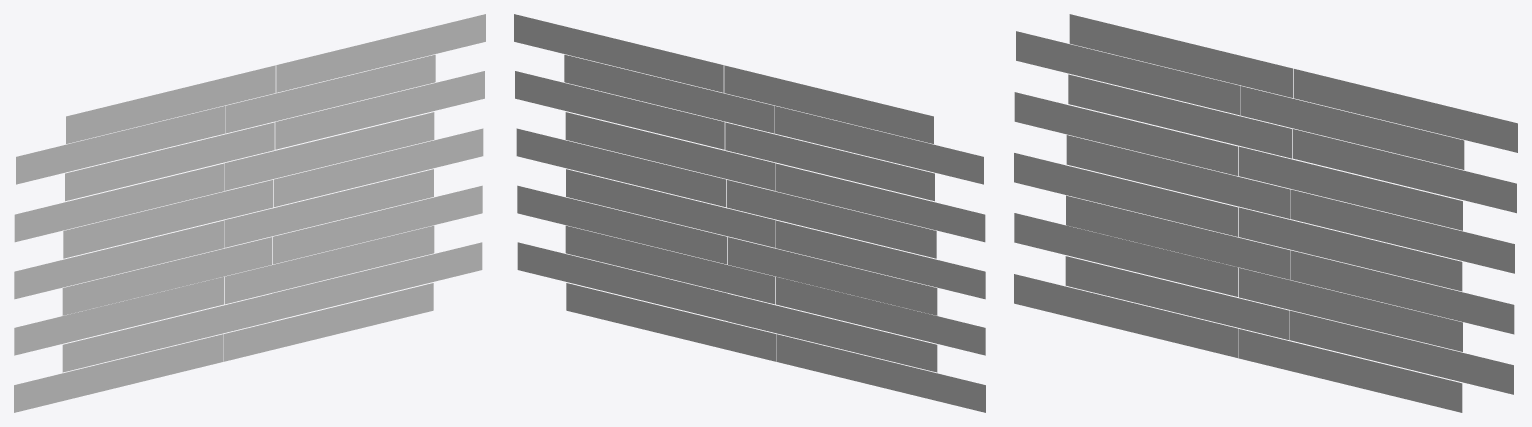
File: rockfacesmall.gltf
3 renders of one model, left to right at view 1: azimuth 30°, elevation 25°; view 2: azimuth 150°, elevation 25°; view 3: azimuth 330°, elevation 25°, orthographic. The views are drawn at different scales.
Visible parts, largest first — view 1: smallrockfa; view 2: smallrockfa; view 3: smallrockfa.
Boxes of the visible parts, left/top/right/bottom form: smallrockfa: left=14, top=14, right=485, bottom=412; smallrockfa: left=514, top=14, right=985, bottom=412; smallrockfa: left=1014, top=14, right=1517, bottom=412.
Size of the model in its own units: 0.2969 by 0.1707 by 0.
Materials: 20 (20 with a texture image).
